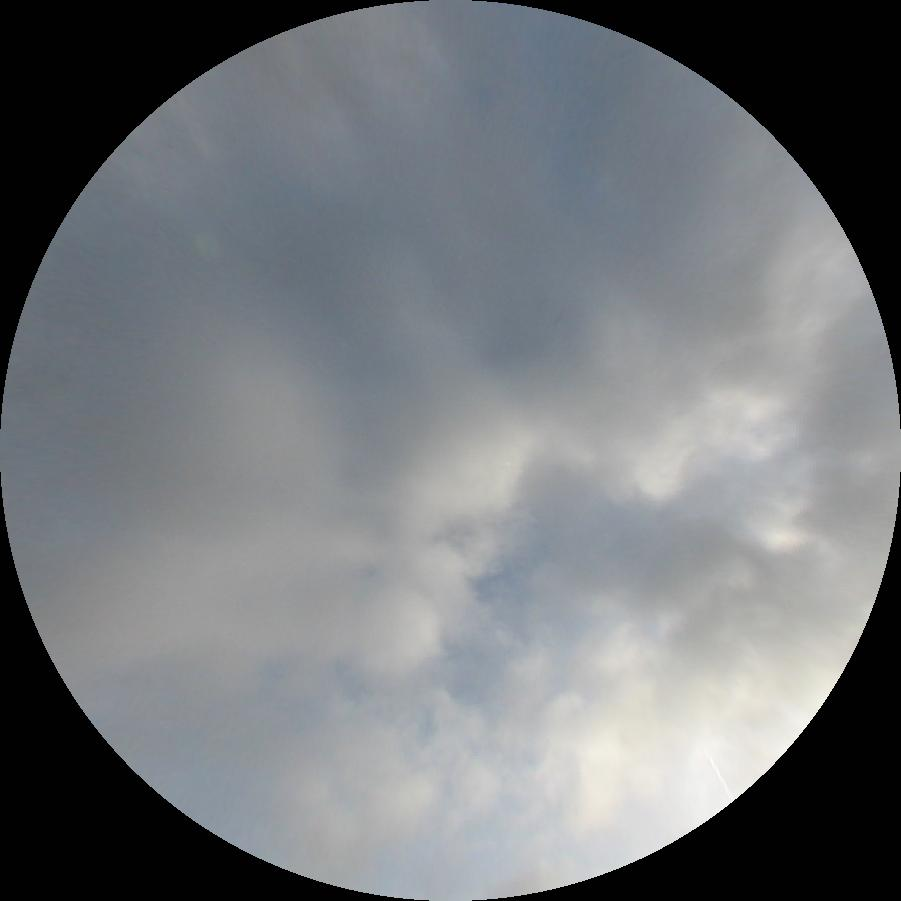contrail young: (707, 751, 735, 801)
